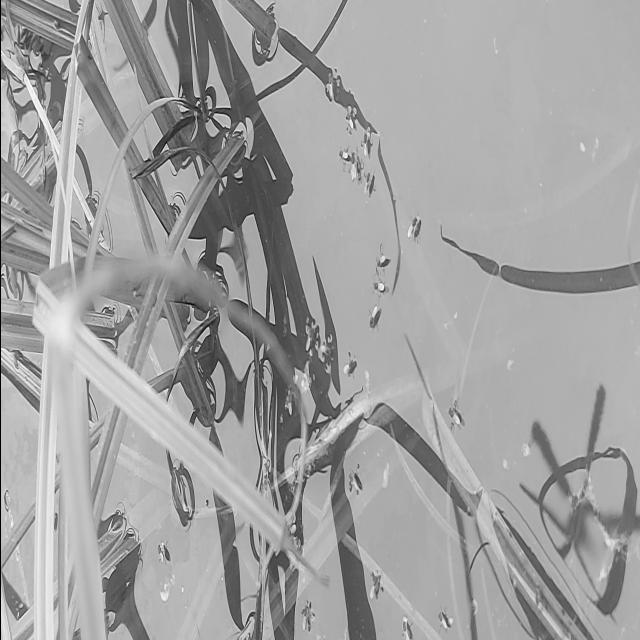Breeding Place: (0, 0, 640, 640)
Mosquito Swarm: (290, 63, 494, 640)
